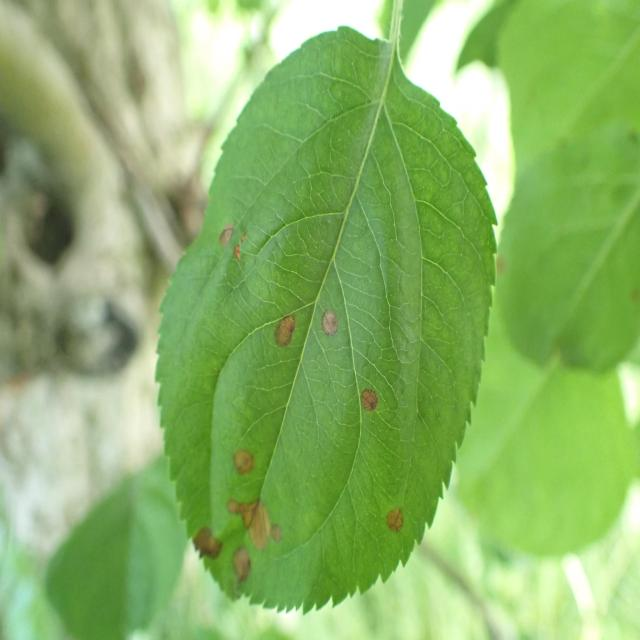Black Rot: (216, 492, 290, 561), (220, 536, 267, 614), (193, 509, 229, 580), (213, 205, 252, 265), (355, 361, 385, 438), (268, 310, 301, 366), (226, 439, 262, 489), (379, 492, 410, 550), (316, 301, 342, 347)
